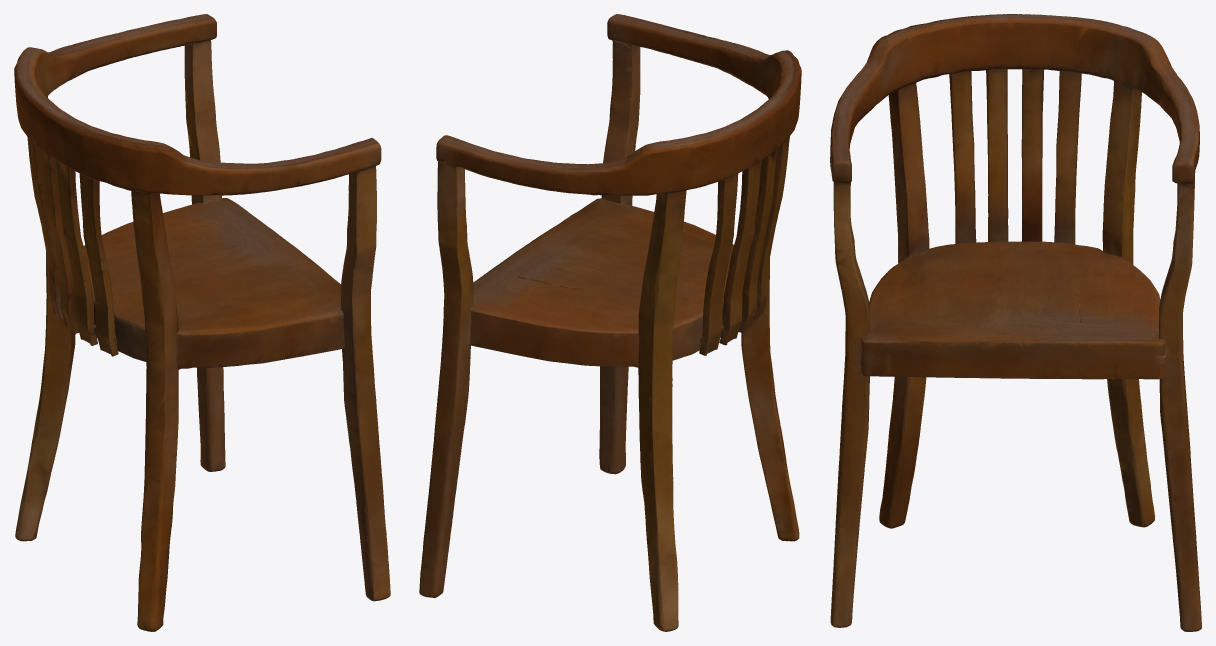
The model's file is Mid-Century Modern Wooden Slat Back Side Chair [jzzl2-].glb.
3 renders of one model, left to right at view 1: azimuth 30°, elevation 25°; view 2: azimuth 150°, elevation 25°; view 3: azimuth 270°, elevation 25°, orthographic.
Visible parts, largest first — view 1: geometry_0; view 2: geometry_0; view 3: geometry_0.
Boxes of the visible parts, box(x1,y1,x2,y2) form: geometry_0: box(14, 14, 390, 631); geometry_0: box(419, 14, 801, 631); geometry_0: box(830, 14, 1201, 631).
Bounding box in the file's own units: 0.5702 × 0.9949 × 0.6828.
Materials: 1 (1 with a texture image).
